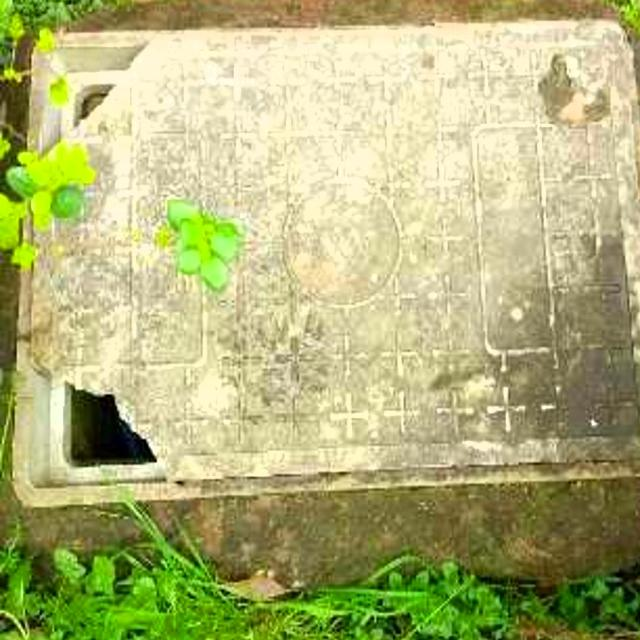broke: (27, 34, 640, 474)
